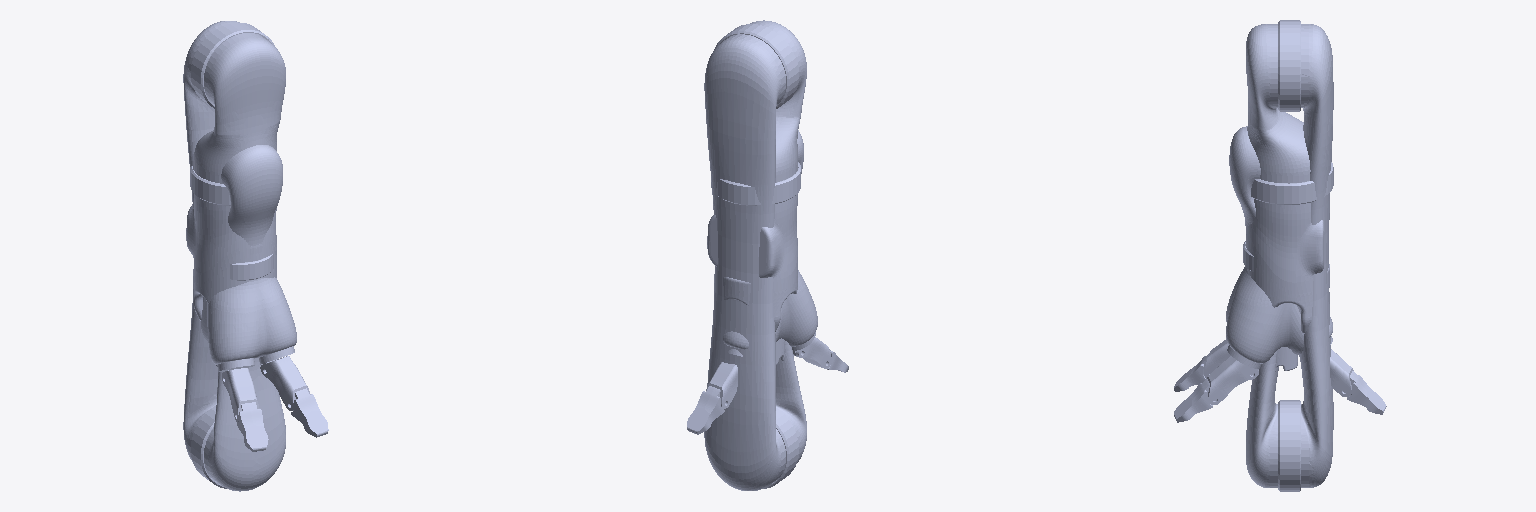
robot.urdf — kinova:
<?xml version="1.0" encoding="utf-8"?>

<robot name="kinova">

  <link name="kinova_link_base">
    <visual>
      <geometry>
        <mesh filename="package://kinova_description/meshes/base_smoothed.obj"/>
      </geometry>
      <material name="carbon_fiber">
        <color rgba="0.792156862745098 0.819607843137255 0.933333333333333 1"/>
      </material>
    </visual>
    <collision>
      <geometry>
        <mesh filename="package://kinova_description/meshes/base.STL"/>
      </geometry>
    </collision>
    <inertial>
      <mass value="0.0"/>
      <origin rpy="0 0 0" xyz="0 0 0.1255"/>
      <inertia ixx="0.000951270861568" ixy="0" ixz="0" iyy="0.000951270861568" iyz="0" izz="0.000374272"/>
    </inertial>
  </link>

  <link name="kinova_link_1">
    <visual>
      <geometry>
        <mesh filename="package://kinova_description/meshes/shoulder_smoothed.obj"/>
      </geometry>
      <material name="carbon_fiber">
        <color rgba="0.792156862745098 0.819607843137255 0.933333333333333 1"/>
      </material>
    </visual>
    <visual>
      <geometry>
        <mesh filename="package://kinova_description/meshes/ring_big_smoothed.obj"/>
      </geometry>
        <material name="white">
        <color rgba="0.792156862745098 0.819607843137255 0.933333333333333 1"/>
      </material>
    </visual>
    <collision>
      <geometry>
        <mesh filename="package://kinova_description/meshes/shoulder.STL"/>
      </geometry>
    </collision>                       
    <inertial>
      <mass value="0.7477"/>
      <origin xyz="0 -0.002 -0.0605"/>
      <inertia ixx="0.00152031725204" ixy="0" ixz="0" iyy="0.00152031725204" iyz="0" izz="0.00059816"/>
    </inertial>
  </link>
  <joint name="kinova_joint_1" type="revolute">
    <parent link="kinova_link_base"/>
    <child link="kinova_link_1"/>
    <axis xyz="0 0 1"/>
    <limit effort="30.5" lower="-6.28318530718" upper="6.28318530718" velocity="15"/>
    <origin rpy="0 3.14159265359 0" xyz="0 0 0.15675"/>
    <dynamics damping="0.0" friction="0.01"/>
  </joint>
  <link name="kinova_link_2">
    <visual>
      <geometry>
        <mesh filename="package://kinova_description/meshes/arm_smoothed.obj"/>
      </geometry>
      <material name="carbon_fiber">
        <color rgba="0.792156862745098 0.819607843137255 0.933333333333333 1"/>
      </material>
    </visual>
    <visual>
      <geometry>
        <mesh filename="package://kinova_description/meshes/ring_big_smoothed.obj"/>
      </geometry>
       <material name="white">
        <color rgba="0.792156862745098 0.819607843137255 0.933333333333333 1"/>
      </material>
    </visual>
    <collision>
      <geometry>
        <mesh filename="package://kinova_description/meshes/arm.STL"/>
      </geometry>
    </collision>                        
    <inertial>
      <mass value="0.99"/>
      <origin xyz="0 -0.2065 -0.01"/>
      <inertia ixx="0.010502207991" ixy="0" ixz="0" iyy="0.000792" iyz="0" izz="0.010502207991"/>
    </inertial>
  </link>
  <joint name="kinova_joint_2" type="revolute">
    <parent link="kinova_link_1"/>
    <child link="kinova_link_2"/>
    <axis xyz="0 0 1"/>
    <limit effort="30.5" lower="-6.28318530718" upper="6.28318530718" velocity="15"/>
    <origin rpy="-1.57079632679 0 3.14159265359" xyz="0 0.0016 -0.11875"/>
    <dynamics damping="0.0" friction="0.01"/>
  </joint>
  <link name="kinova_link_3">
    <visual>
      <geometry>
        <mesh filename="package://kinova_description/meshes/forearm_smoothed.obj"/>
      </geometry>
      <material name="carbon_fiber">
        <color rgba="0.792156862745098 0.819607843137255 0.933333333333333 1"/>
      </material>
    </visual>
    <visual>
      <geometry>
        <mesh filename="package://kinova_description/meshes/ring_big_smoothed.obj"/>
      </geometry>
       <material name="white">
        <color rgba="0.792156862745098 0.819607843137255 0.933333333333333 1"/>
      </material>
    </visual>
    <collision>
      <geometry>
        <mesh filename="package://kinova_description/meshes/forearm.STL"/>
      </geometry>
    </collision>     
    <inertial>
      <mass value="0.6763"/>
      <origin xyz="0 0.081 -0.0086"/>
      <inertia ixx="0.00142022431908" ixy="0" ixz="0" iyy="0.000304335" iyz="0" izz="0.00142022431908"/>
    </inertial>
  </link>
  <joint name="kinova_joint_3" type="revolute">
    <parent link="kinova_link_2"/>
    <child link="kinova_link_3"/>
    <axis xyz="0 0 1"/>
    <limit effort="30.5" lower="-6.28318530718" upper="6.28318530718" velocity="15"/>
    <origin rpy="0 3.14159265359 0" xyz="0 -0.410 0"/>
    <dynamics damping="0.0" friction="0.01"/>
  </joint>
  <link name="kinova_link_4">
    <visual>
      <geometry>
        <mesh filename="package://kinova_description/meshes/wrist_spherical_1_smoothed.obj"/>
      </geometry>
      <material name="carbon_fiber">
        <color rgba="0.792156862745098 0.819607843137255 0.933333333333333 1"/>
      </material>
    </visual>
    <visual>
      <geometry>
        <mesh filename="package://kinova_description/meshes/ring_small_smoothed.obj"/>
      </geometry>
       <material name="white">
        <color rgba="0.792156862745098 0.819607843137255 0.933333333333333 1"/>
      </material>
    </visual>
    <collision>
      <geometry>
        <mesh filename="package://kinova_description/meshes/wrist_spherical_1.STL"/>
      </geometry>
    </collision>          
    <inertial>
      <mass value="0.463"/>
      <origin xyz="0 0.0028848942 -0.0541932613"/>
      <inertia ixx="0.0004321316048" ixy="0" ixz="0" iyy="0.0004321316048" iyz="0" izz="9.26e-05"/>
    </inertial>
  </link>
  <joint name="kinova_joint_4" type="revolute">
    <parent link="kinova_link_3"/>
    <child link="kinova_link_4"/>
    <axis xyz="0 0 1"/>
    <limit effort="6.8" lower="-6.28318530718" upper="6.28318530718" velocity="15"/>
    <origin rpy="-1.57079632679 0 3.14159265359" xyz="0 0.2073 -0.0114"/>
    <dynamics damping="0.0" friction="0.01"/>
  </joint>
  <link name="kinova_link_5">
    <visual>
      <geometry>
        <mesh filename="package://kinova_description/meshes/wrist_spherical_2_smoothed.obj"/>
      </geometry>
      <material name="carbon_fiber">
        <color rgba="0.792156862745098 0.819607843137255 0.933333333333333 1"/>
      </material>
    </visual>
    <visual>
      <geometry>
        <mesh filename="package://kinova_description/meshes/ring_small_smoothed.obj"/>
      </geometry>
       <material name="white">
        <color rgba="0.792156862745098 0.819607843137255 0.933333333333333 1"/>
      </material>
    </visual>
    <collision>
      <geometry>
        <mesh filename="package://kinova_description/meshes/wrist_spherical_2.STL"/>
      </geometry>
    </collision>           
    <inertial>
      <mass value="0.463"/>
      <origin xyz="0 0.0497208855 -0.0028562765"/>
      <inertia ixx="0.0004321316048" ixy="0" ixz="0" iyy="9.26e-05" iyz="0" izz="0.0004321316048"/>
    </inertial>
  </link>
  <joint name="kinova_joint_5" type="revolute">
    <parent link="kinova_link_4"/>
    <child link="kinova_link_5"/>
    <axis xyz="0 0 1"/>
    <limit effort="6.8" lower="-6.28318530718" upper="6.28318530718" velocity="15"/>
    <origin rpy="1.57079632679 0 3.14159265359" xyz="0 0 -0.10375"/>
    <dynamics damping="0.0" friction="0.01"/>
  </joint>
  <link name="kinova_link_6">
    <visual>
      <geometry>
        <mesh filename="package://kinova_description/meshes/hand_3finger_smoothed.obj"/>
      </geometry>
      <material name="carbon_fiber">
        <color rgba="0.792156862745098 0.819607843137255 0.933333333333333 1"/>
      </material>
    </visual>
      <visual>
      <geometry>
        <mesh filename="package://kinova_description/meshes/ring_small_smoothed.obj"/>
      </geometry>
       <material name="white">
        <color rgba="0.792156862745098 0.819607843137255 0.933333333333333 1"/>
      </material>
    </visual>
    <collision>
      <geometry>
        <mesh filename="package://kinova_description/meshes/hand_3finger.STL"/>
      </geometry>
    </collision>              
    <inertial>
      <mass value="1.327"/>
      <origin xyz="0 0 -0.06"/>
      <inertia ixx="0.0003453236187" ixy="0" ixz="0" iyy="0.0003453236187" iyz="0" izz="0.0005816"/>
    </inertial>
  </link>
  <joint name="kinova_joint_6" type="revolute">
    <parent link="kinova_link_5"/>
    <child link="kinova_link_6"/>
    <axis xyz="0 0 1"/>
    <limit effort="6.8" lower="-6.28318530718" upper="6.28318530718" velocity="15"/>
    <origin rpy="-1.57079632679 0 3.14159265359" xyz="0 0.10375 0"/>
    <dynamics damping="0.0" friction="0.01"/>
  </joint>
    <link name="kinova_end_effector">
      <!-- Inertial properties and a fixed revolute joint have been added to this link to make it possible to use the gazebo_link_attacher plugin -->
      <!-- Minor collision properties are added to avoid bug/crash when running model in Gazebo -->
      <visual>
        <geometry>
          <box size="0 0 0"/>
        </geometry>
      </visual>
      <collision>
        <geometry>
          <box size="0.0001 0.0001 0.0001"/>
        </geometry>
      </collision>
      <inertial>
        <origin rpy="0 0 0" xyz="0.0 0.0 0.0"/>
        <mass value="0.0000001"/>
        <inertia ixx="0.000001" ixy="0" ixz="0" iyy="0.000001" iyz="0" izz="0.000001"/>
      </inertial>
    </link>
    <joint name="kinova_joint_end_effector" type="fixed">
      <!--joint name="${joint_name}" type="fixed"-->
      <parent link="kinova_link_6"/>
      <child link="kinova_end_effector"/>
      <axis xyz="0 0 0"/>
      <limit effort="2000" lower="0" upper="0" velocity="1"/>
      <origin rpy="3.14159265359 0 0" xyz="0 0 -0.1600"/>
    </joint>
  <link name="kinova_link_finger_1">
    <visual>
      <geometry>
        <mesh filename="package://kinova_description/meshes/finger_proximal.dae"/>
      </geometry>
      <material name="white">
        <color rgba="0.792156862745098 0.819607843137255 0.933333333333333 1"/>
      </material>
    </visual>
    <collision>
      <geometry>
        <mesh filename="package://kinova_description/meshes/finger_proximal.STL"/>
      </geometry>
    </collision>              
    <inertial>
      <mass value="0.01"/>
      <origin xyz="0.022 0 0"/>
      <inertia ixx="7.8999684e-07" ixy="0" ixz="0" iyy="7.8999684e-07" iyz="0" izz="8e-08"/>
    </inertial>
  </link>
  <joint name="kinova_joint_finger_1" type="fixed">
    <parent link="kinova_link_6"/>
    <child link="kinova_link_finger_1"/>
    <axis xyz="0 0 1"/>
    <origin rpy="-1.570796327 .649262481663582 1.35961148639407" xyz="0.00279 0.03126 -0.11467"/>
  </joint>
  <link name="kinova_link_finger_tip_1">
    <visual>
      <geometry>
        <mesh filename="package://kinova_description/meshes/finger_distal.dae"/>
      </geometry>
      <material name="white">
        <color rgba="0.792156862745098 0.819607843137255 0.933333333333333 1"/>
      </material>
    </visual>
    <collision>
      <geometry>
        <mesh filename="package://kinova_description/meshes/finger_distal.STL"/>
      </geometry>
    </collision>      
    <inertial>
      <mass value="0.01"/>
      <origin xyz="0.022 0 0"/>
      <inertia ixx="7.8999684e-07" ixy="0" ixz="0" iyy="7.8999684e-07" iyz="0" izz="8e-08"/>
    </inertial>
  </link>
  <joint name="kinova_joint_finger_tip_1" type="fixed">
    <parent link="kinova_link_finger_1"/>
    <child link="kinova_link_finger_tip_1"/>
    <axis xyz="0 0 1"/>
    <origin rpy="0 0 0" xyz="0.044 -0.003 0"/>
    <limit effort="2000" lower="0" upper="2" velocity="1"/>
  </joint>
  <link name="kinova_link_finger_2">
    <visual>
      <geometry>
        <mesh filename="package://kinova_description/meshes/finger_proximal.dae"/>
      </geometry>
      <material name="white">
        <color rgba="0.792156862745098 0.819607843137255 0.933333333333333 1"/>
      </material>
    </visual>
    <collision>
      <geometry>
        <mesh filename="package://kinova_description/meshes/finger_proximal.STL"/>
      </geometry>
    </collision>                  
    <inertial>
      <mass value="0.01"/>
      <origin xyz="0.022 0 0"/>
      <inertia ixx="7.8999684e-07" ixy="0" ixz="0" iyy="7.8999684e-07" iyz="0" izz="8e-08"/>
    </inertial>
  </link>
  <joint name="kinova_joint_finger_2" type="fixed">
    <parent link="kinova_link_6"/>
    <child link="kinova_link_finger_2"/>
    <axis xyz="0 0 1"/>
    <origin rpy="-1.570796327 .649262481663582 -1.38614049188413" xyz="0.02226 -0.02707 -0.11482"/>
  </joint>
  <link name="kinova_link_finger_tip_2">
    <visual>
      <geometry>
        <mesh filename="package://kinova_description/meshes/finger_distal.dae"/>
      </geometry>
      <material name="white">
        <color rgba="0.792156862745098 0.819607843137255 0.933333333333333 1"/>
      </material>
    </visual>
    <collision>
      <geometry>
        <mesh filename="package://kinova_description/meshes/finger_distal.STL"/>
      </geometry>
    </collision>                 
    <inertial>
      <mass value="0.01"/>
      <origin xyz="0.022 0 0"/>
      <inertia ixx="7.8999684e-07" ixy="0" ixz="0" iyy="7.8999684e-07" iyz="0" izz="8e-08"/>
    </inertial>
  </link>
  <joint name="kinova_joint_finger_tip_2" type="fixed">
    <parent link="kinova_link_finger_2"/>
    <child link="kinova_link_finger_tip_2"/>
    <axis xyz="0 0 1"/>
    <origin rpy="0 0 0" xyz="0.044 -0.003 0"/>
    <limit effort="2000" lower="0" upper="2" velocity="1"/>
  </joint>
  <link name="kinova_link_finger_3">
    <visual>
      <geometry>
        <mesh filename="package://kinova_description/meshes/finger_proximal.dae"/>
      </geometry>
      <material name="white">
        <color rgba="0.792156862745098 0.819607843137255 0.933333333333333 1"/>
      </material>
    </visual>
    <collision>
      <geometry>
        <mesh filename="package://kinova_description/meshes/finger_proximal.STL"/>
      </geometry>
    </collision> 
    <inertial>
      <mass value="0.01"/>
      <origin xyz="0.022 0 0"/>
      <inertia ixx="7.8999684e-07" ixy="0" ixz="0" iyy="7.8999684e-07" iyz="0" izz="8e-08"/>
    </inertial>
  </link>
  <joint name="kinova_joint_finger_3" type="fixed">
    <parent link="kinova_link_6"/>
    <child link="kinova_link_finger_3"/>
    <axis xyz="0 0 1"/>
    <origin rpy="-1.570796327 .649262481663582 -1.75545216211587" xyz="-0.02226 -0.02707 -0.11482"/>
  </joint>
  <link name="kinova_link_finger_tip_3">
    <visual>
      <geometry>
        <mesh filename="package://kinova_description/meshes/finger_distal.dae"/>
      </geometry>
      <material name="white">
        <color rgba="0.792156862745098 0.819607843137255 0.933333333333333 1"/>
      </material>
    </visual>
    <collision>
      <geometry>
        <mesh filename="package://kinova_description/meshes/finger_distal.STL"/>
      </geometry>
    </collision>     
    <inertial>
      <mass value="0.01"/>
      <origin xyz="0.022 0 0"/>
      <inertia ixx="7.8999684e-07" ixy="0" ixz="0" iyy="7.8999684e-07" iyz="0" izz="8e-08"/>
    </inertial>
  </link>
  <joint name="kinova_joint_finger_tip_3" type="fixed">
    <parent link="kinova_link_finger_3"/>
    <child link="kinova_link_finger_tip_3"/>
    <axis xyz="0 0 1"/>
    <origin rpy="0 0 0" xyz="0.044 -0.003 0"/>
    <limit effort="2000" lower="0" upper="2" velocity="1"/>
  </joint>
</robot>

--- What the picture shows (computed from the rendered views, not written in the file) ---
Views: 3 orthographic renders of the robot side by side, from view 1: azimuth 30°, elevation 25°; view 2: azimuth 150°, elevation 25°; view 3: azimuth 270°, elevation 25°.
Model kinova with 14 links and 13 joints (6 revolute, 7 fixed), rooted at kinova_link_base, posed all joints at 0.
Links seen in each view (by area): view 1: kinova_link_1, kinova_link_6, kinova_link_3, kinova_link_2, kinova_link_4, kinova_link_base, kinova_link_finger_2, kinova_link_finger_3, kinova_link_finger_tip_3, kinova_link_finger_tip_2; view 2: kinova_link_2, kinova_link_base, kinova_link_1, kinova_link_3, kinova_link_6, kinova_link_finger_tip_1, kinova_link_finger_1, kinova_link_finger_3; view 3: kinova_link_2, kinova_link_1, kinova_link_base, kinova_link_3, kinova_link_6, kinova_link_4, kinova_link_finger_2, kinova_link_finger_tip_1, kinova_link_finger_tip_2, kinova_link_finger_1, kinova_link_finger_tip_3.
Boxes of the visible links, x1,y1,x2,y2 form: kinova_link_1: (190,33,285,205); kinova_link_6: (201,254,296,371); kinova_link_3: (191,278,285,491); kinova_link_2: (183,21,274,461); kinova_link_4: (221,145,282,280); kinova_link_base: (186,194,276,320); kinova_link_finger_2: (260,356,309,410); kinova_link_finger_3: (222,368,259,422); kinova_link_finger_tip_3: (237,402,268,451); kinova_link_finger_tip_2: (291,388,328,437); kinova_link_2: (704,24,798,490); kinova_link_base: (707,194,797,331); kinova_link_1: (711,20,806,205); kinova_link_3: (764,340,806,488); kinova_link_6: (723,270,817,364); kinova_link_finger_tip_1: (687,386,724,434); kinova_link_finger_1: (706,362,737,408); kinova_link_finger_3: (796,337,831,368); kinova_link_2: (1278,20,1333,487); kinova_link_1: (1246,24,1333,204); kinova_link_base: (1246,199,1329,333); kinova_link_3: (1246,351,1300,491); kinova_link_6: (1226,250,1332,371); kinova_link_4: (1229,126,1260,271); kinova_link_finger_2: (1207,356,1258,404); kinova_link_finger_tip_1: (1347,371,1386,414); kinova_link_finger_tip_2: (1174,379,1212,422); kinova_link_finger_1: (1330,349,1353,396); kinova_link_finger_tip_3: (1174,353,1209,391).
Bounding box of the posed robot: 0.0927 × 0.2083 × 0.4992 m (x, y, z).
Meshes: 11 distinct files referenced, 19 mesh visuals loaded (2 Collada DAE, 9 OBJ).
